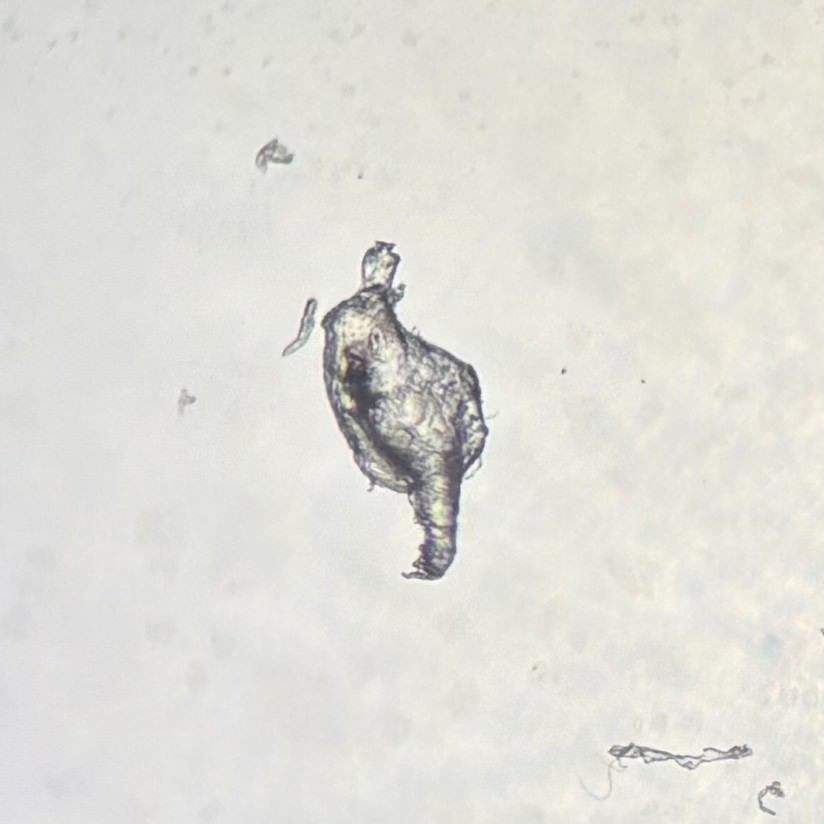microplastic: (321, 240, 493, 586), (607, 739, 761, 771), (280, 298, 320, 353), (254, 137, 301, 180), (755, 780, 785, 816)
